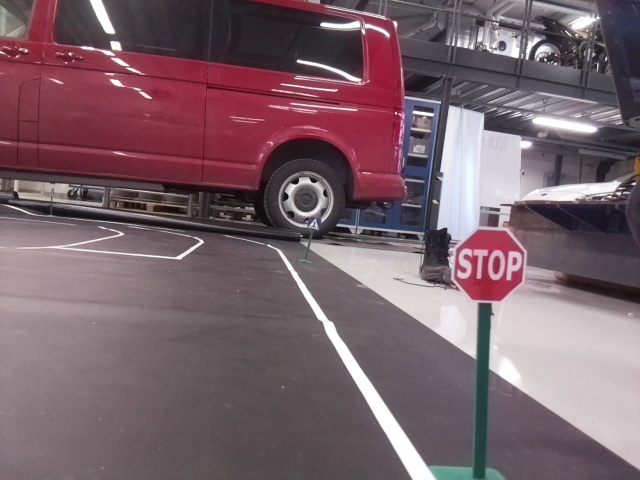Stop: (452, 228, 526, 304)
